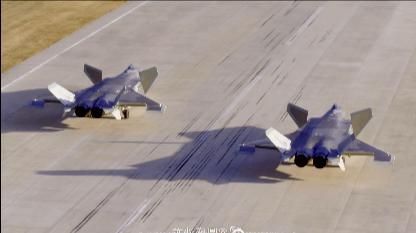F4: (235, 102, 395, 170), (28, 63, 166, 119)
